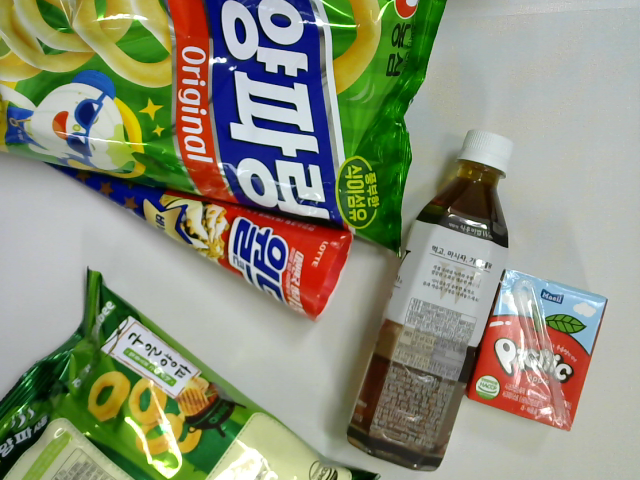Grilled_Onions: (1, 265, 381, 480)
Oninon_Ring: (1, 1, 448, 262)
Picnic_Apple: (467, 266, 610, 436)
Post-meal_recipe_W_tea_500ml: (343, 126, 514, 475)
World_Cone_Banila: (35, 157, 353, 321)
